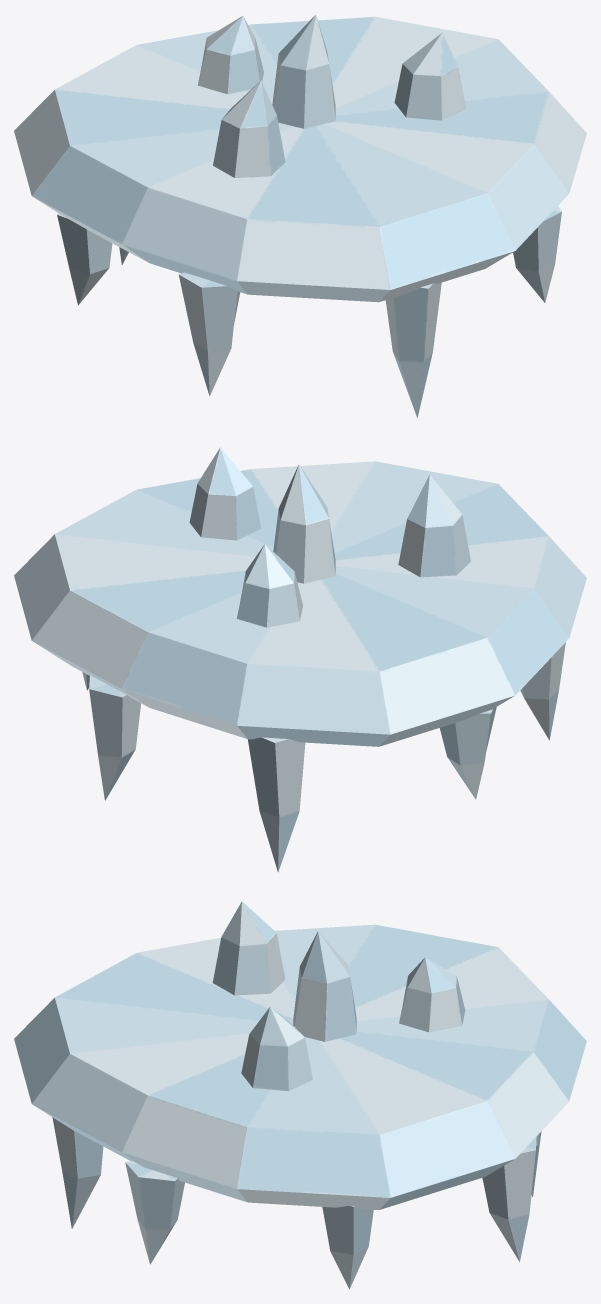
Rendered from FrostCap.fbx.
3 views of the same model, one above another, from view 1: azimuth 30°, elevation 25°; view 2: azimuth 150°, elevation 25°; view 3: azimuth 270°, elevation 25° (orthographic).
Parts seen in each view (by area): view 1: FrostCap; view 2: FrostCap; view 3: FrostCap.
Part boxes in pixels (x1,y1,x2,y2): FrostCap: (14,15,586,418); FrostCap: (14,447,586,872); FrostCap: (14,901,586,1289).
Size of the model in its own units: 205 by 121 by 203.
1 material, 1 textured.
